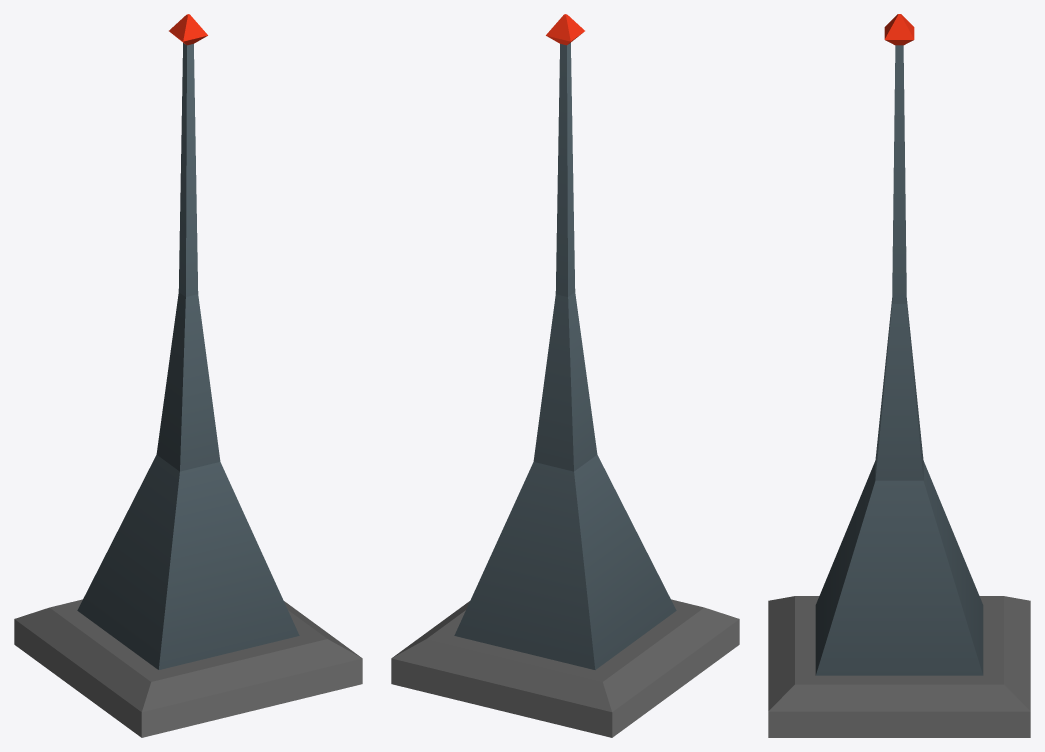
The model's file is RoofAcc_RadioTower.fbx.
3 renders of one model, left to right at view 1: azimuth 30°, elevation 25°; view 2: azimuth 150°, elevation 25°; view 3: azimuth 270°, elevation 25°, orthographic. The views are drawn at different scales.
Visible parts, largest first — view 1: RoofAcc_RadioTower; view 2: RoofAcc_RadioTower; view 3: RoofAcc_RadioTower.
Part boxes in pixels (<box>): RoofAcc_RadioTower: <box>14,14,362,737</box>; RoofAcc_RadioTower: <box>391,14,739,737</box>; RoofAcc_RadioTower: <box>768,14,1030,737</box>.
Size of the model in its own units: 63 by 177 by 63.
